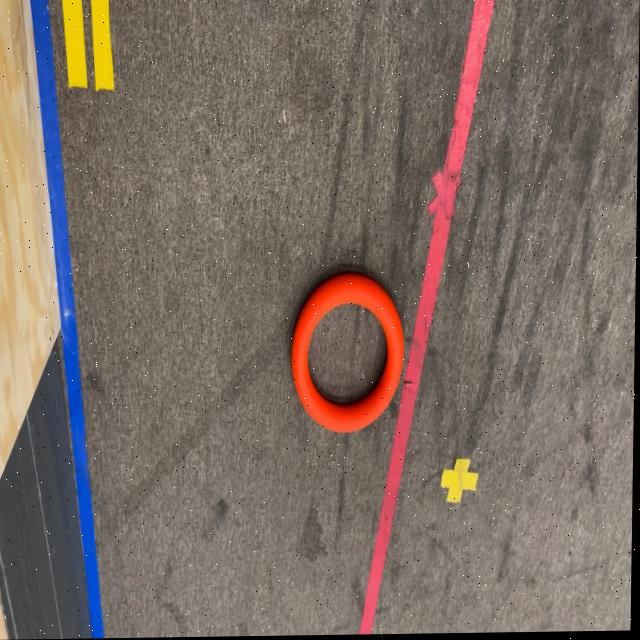note: (290, 270, 408, 434)
